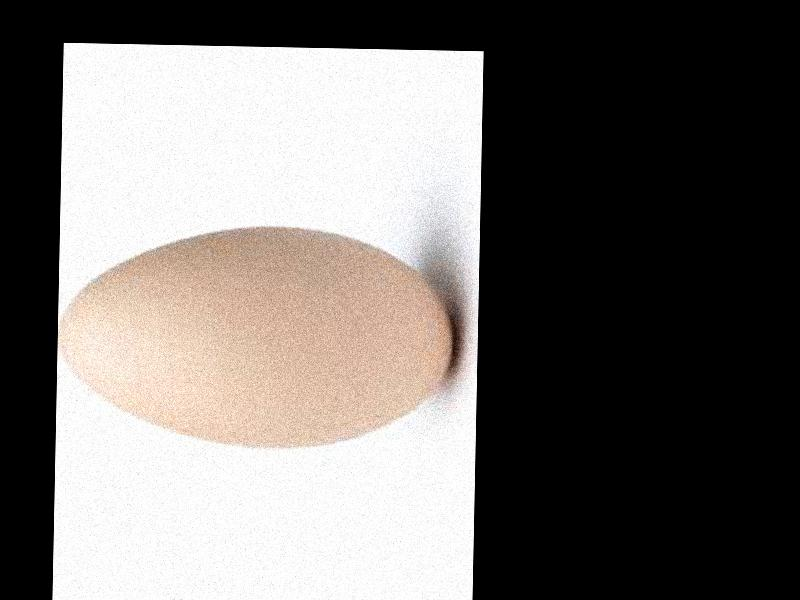Eggs: (58, 222, 457, 450)
